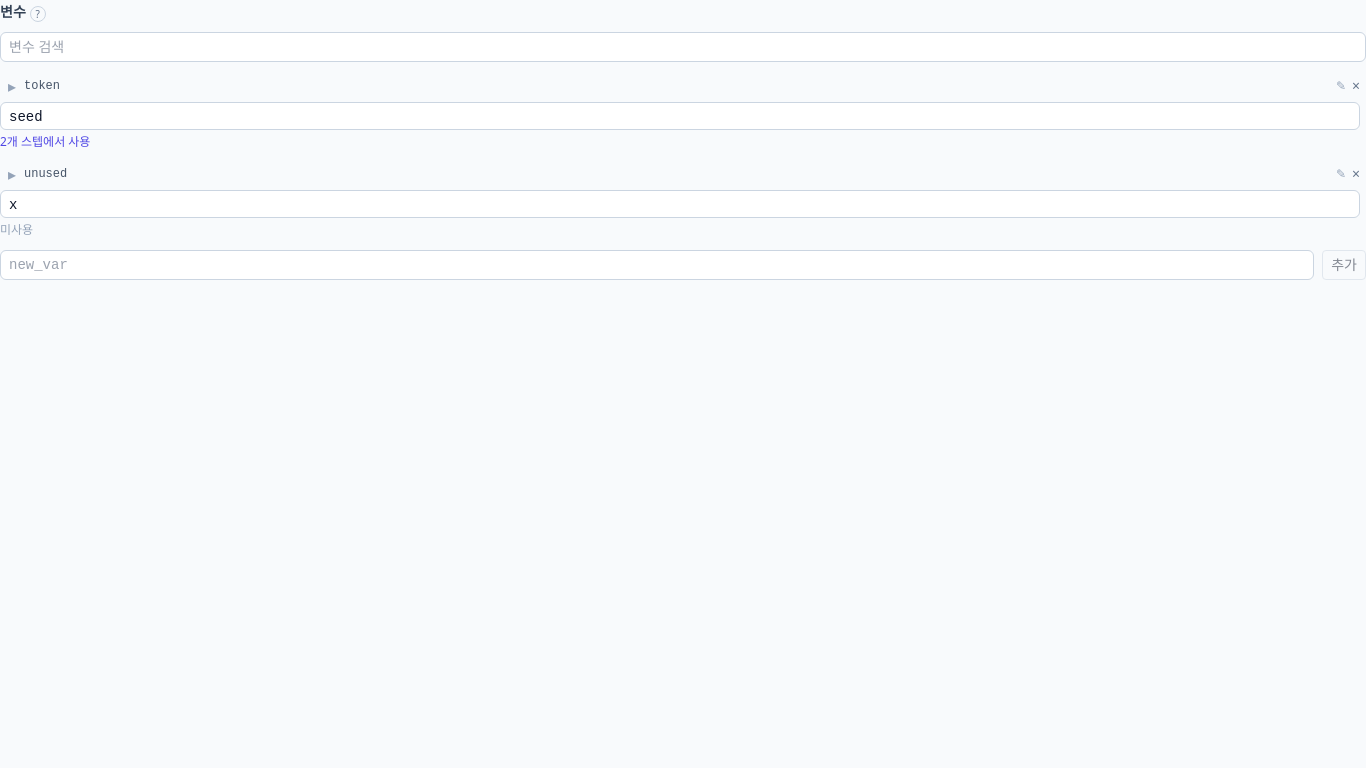
VariablesPanel — 사용중인 변수 삭제 확인 (var-delete-confirm T4, US1·US2·US3) › US1-a: 참조가 있는 변수의 × 는 즉시 지우지 않고 확인 다이얼로그를 연다
The width and height of the screenshot is (1366, 768).
Click the button "×" in the row of "token".
click(1356, 86)  # box [1352, 76, 1360, 96]
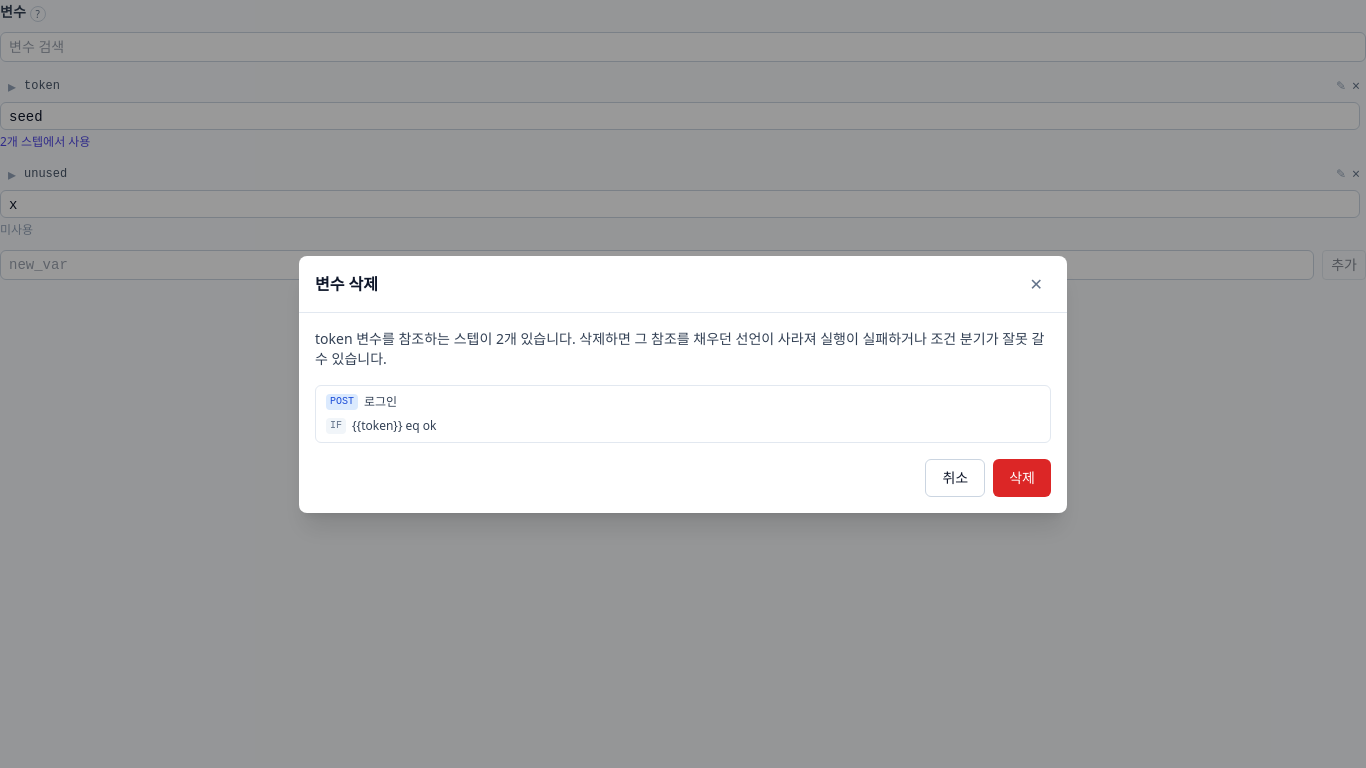
Expected: the text "로그인" is shown, [364, 392, 397, 410]
Expected: the text "POST" is shown, [326, 394, 358, 410]
Expected: the text "{{token}} eq ok" is shown, [352, 416, 436, 434]
